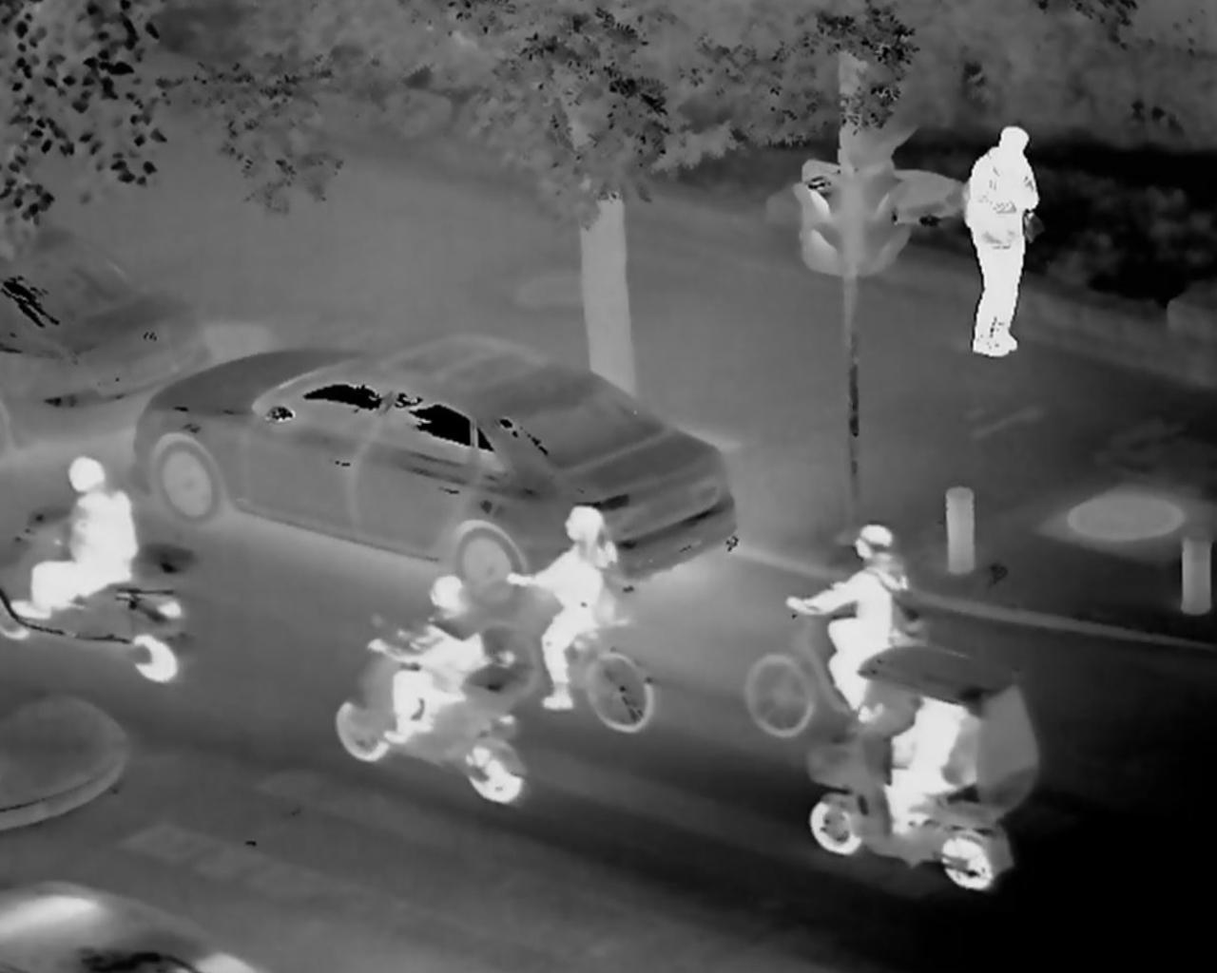person: (786, 509, 934, 726), (500, 500, 635, 736), (363, 548, 491, 778), (9, 446, 161, 631), (937, 112, 1039, 364), (870, 688, 972, 840)
